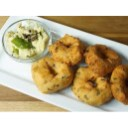vada: (72, 65, 111, 104), (32, 58, 72, 93), (86, 42, 121, 71), (53, 32, 82, 64), (112, 62, 128, 103)
